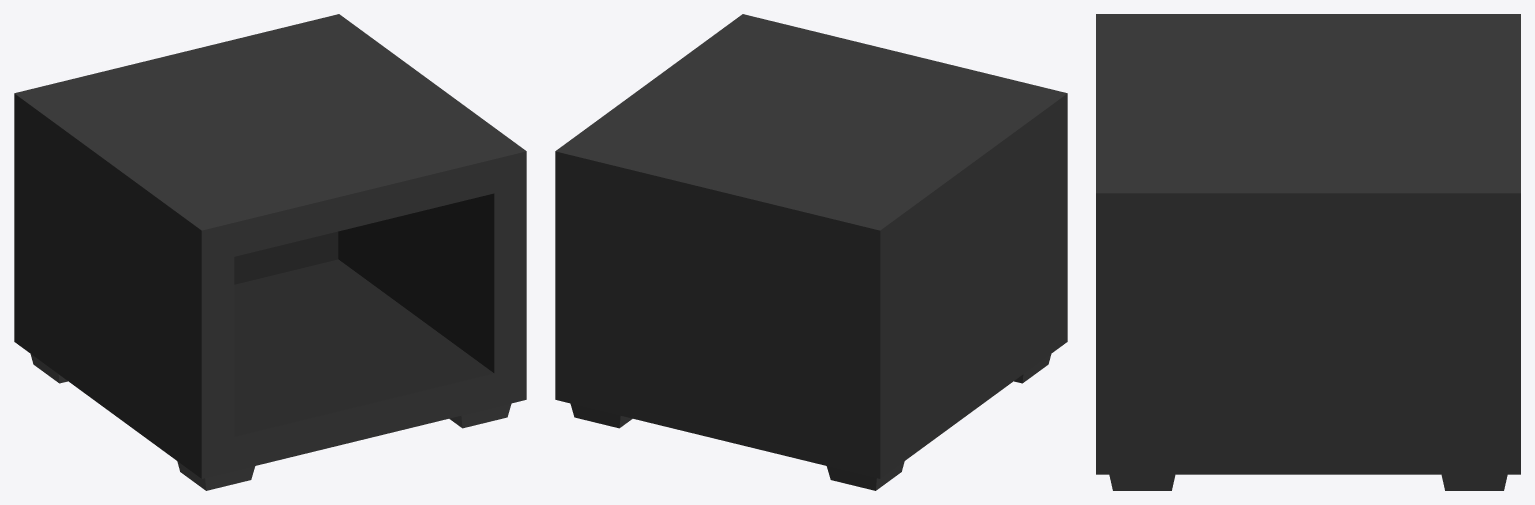
The model's file is SM_Props_Safe_02.fbx.
3 renders of one model, left to right at view 1: azimuth 30°, elevation 25°; view 2: azimuth 150°, elevation 25°; view 3: azimuth 270°, elevation 25°, orthographic. The views are drawn at different scales.
Visible parts, largest first — view 1: SM_Props_Safe_02; view 2: SM_Props_Safe_02; view 3: SM_Props_Safe_02.
Part boxes in pixels (x1,y1,x2,y2): SM_Props_Safe_02: (14,14,526,490); SM_Props_Safe_02: (555,14,1067,490); SM_Props_Safe_02: (1096,14,1520,490).
Size of the model in its own units: 0.5052 by 0.3991 by 0.5052.
